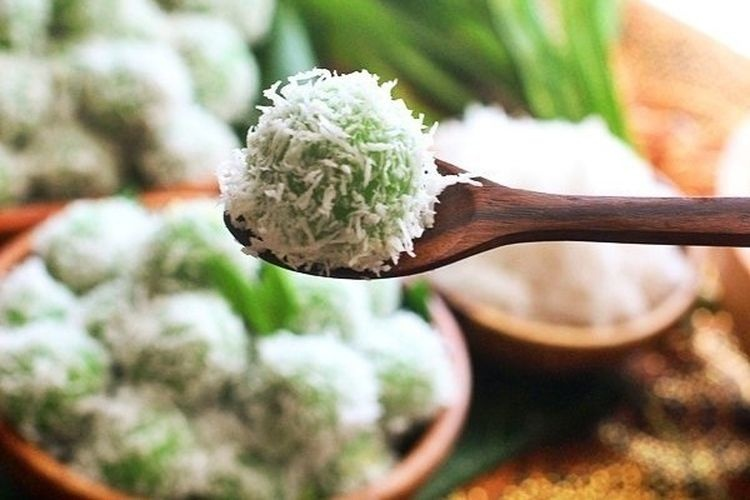klepon: (213, 51, 441, 289)
